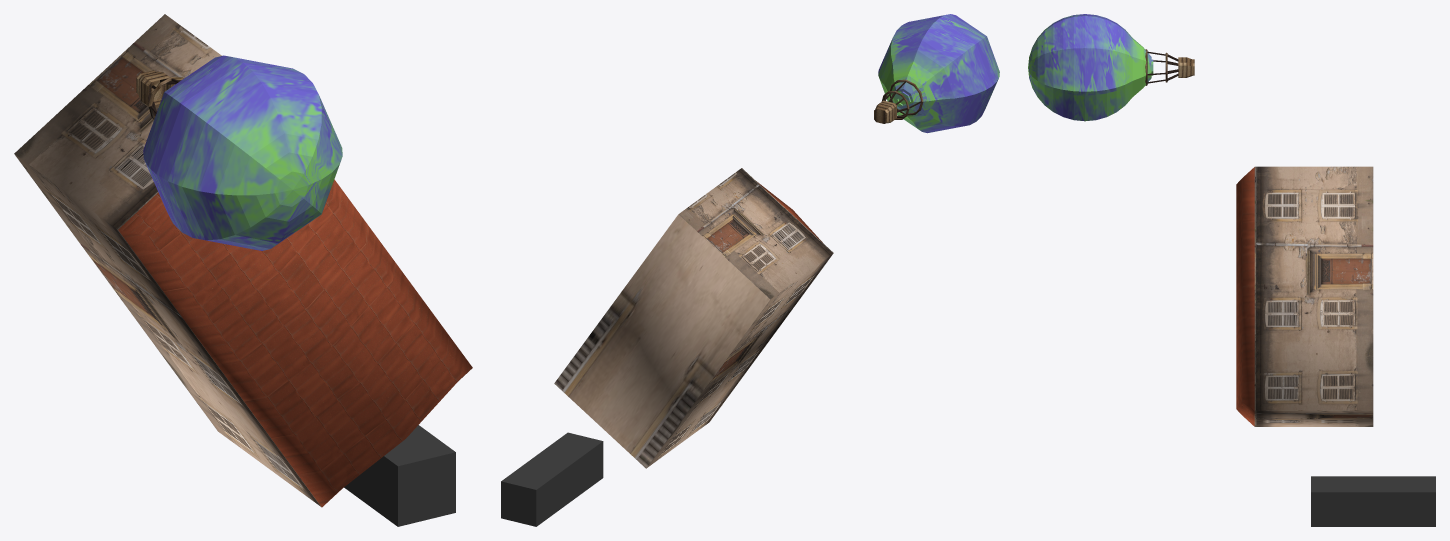
Rendered from scene_simple_2.fbx.
3 views of the same model, side by side, from view 1: azimuth 30°, elevation 25°; view 2: azimuth 150°, elevation 25°; view 3: azimuth 270°, elevation 25° (orthographic). The views are drawn at different scales.
Parts seen in each view (by area): view 1: house, hotairbaloon, Cube; view 2: house, hotairbaloon, Cube; view 3: house, hotairbaloon, Cube.
Part boxes in pixels (x1,y1,x2,y2): house: (14, 14, 472, 507); hotairbaloon: (136, 55, 342, 250); Cube: (344, 425, 455, 526); house: (554, 168, 833, 468); hotairbaloon: (874, 14, 999, 133); Cube: (501, 432, 603, 526); house: (1236, 166, 1373, 426); hotairbaloon: (1028, 14, 1194, 121); Cube: (1311, 476, 1435, 526).
Bounding box in the file's own units: 17.17 × 22.93 × 21.37.
